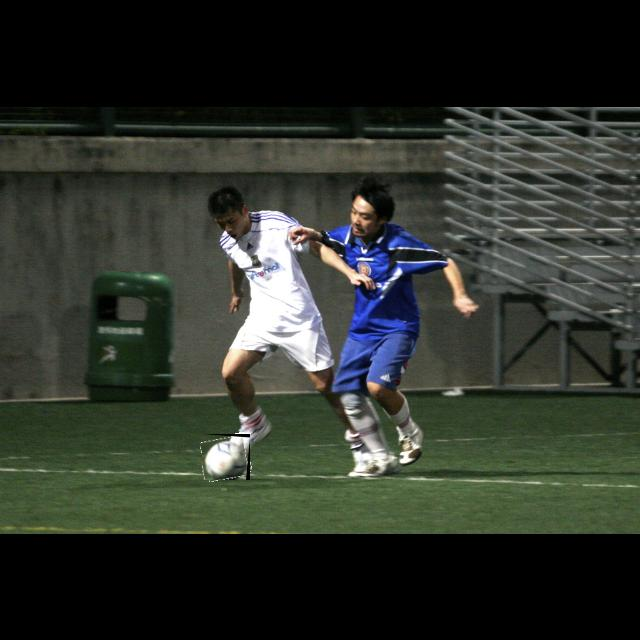Football: (202, 434, 250, 480)
